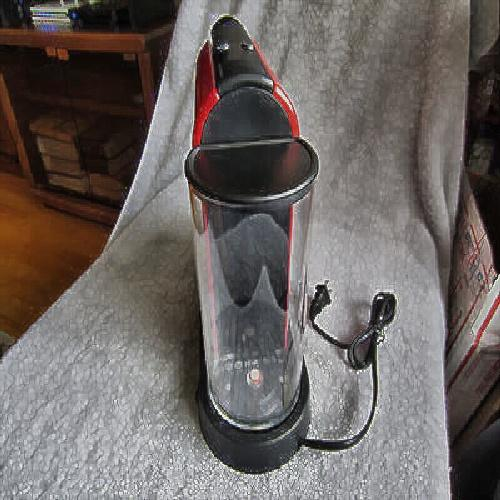coffee_maker: (186, 20, 372, 462)
